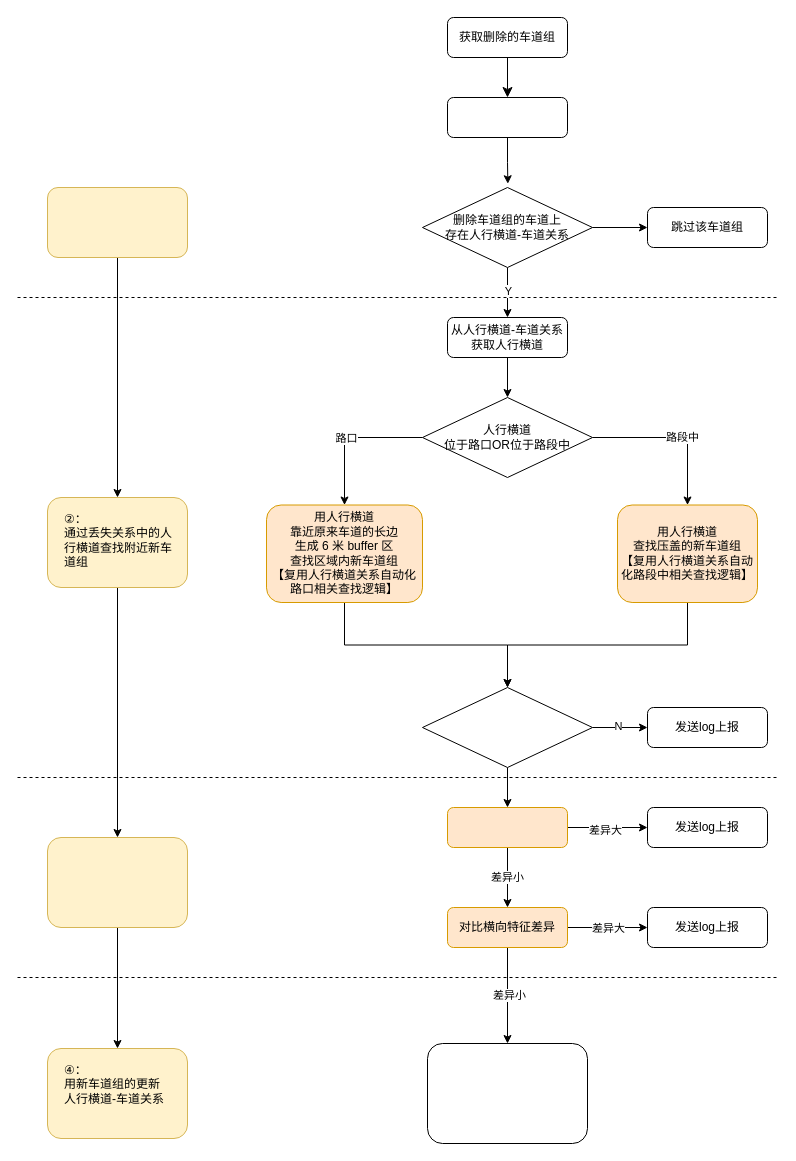
Some shapes in this 796 by 1161 pixel diagram are drawn without their labels. Each missing label, with the centre of its shape:
"①： 获取删除车道组中存在关系丢失的车道" goes at [117,222].
"③： 对比新旧车道组的 形态差异 （横向、纵向）" goes at [117,882].
"对比纵向特征差异" goes at [507,827].
"将新车道组的右侧车道更新 至人行横道-车道关系中 OR 用新车道组的右侧车道和人行横道创建人行横道-车道关系" goes at [507,1093].
"提取该删除车道组 作为一条情报" goes at [507,117].
"是否找到符合的新车道组" goes at [507,727].
